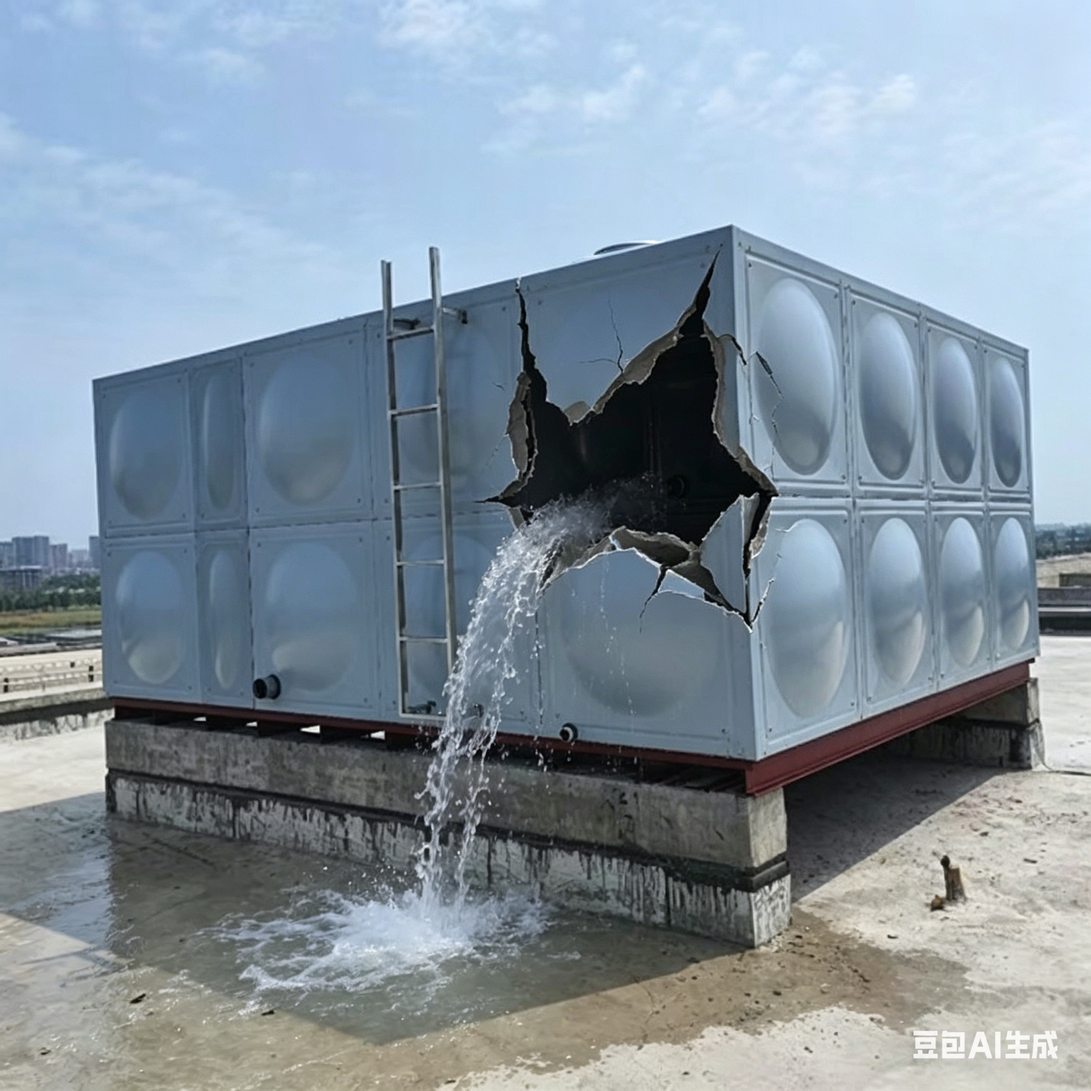Leakage: (38, 826, 445, 1091), (451, 499, 626, 1055), (648, 923, 917, 1033)
